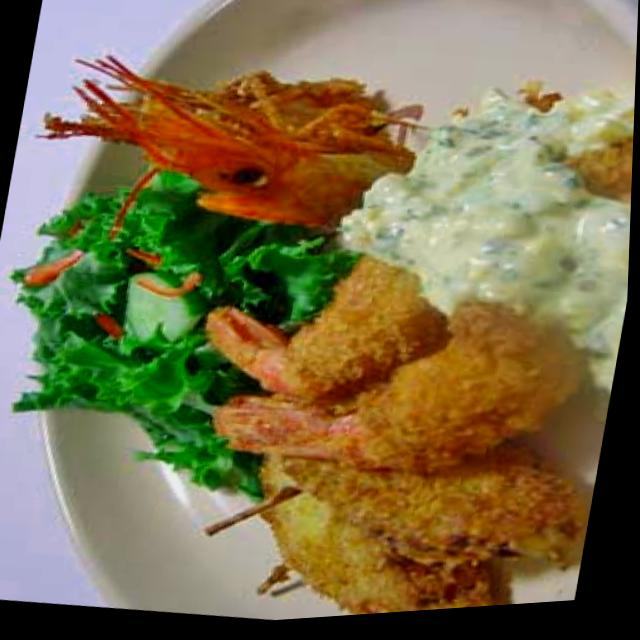炸货点心: (145, 37, 638, 525)
熟制海鲜: (145, 37, 638, 525)
